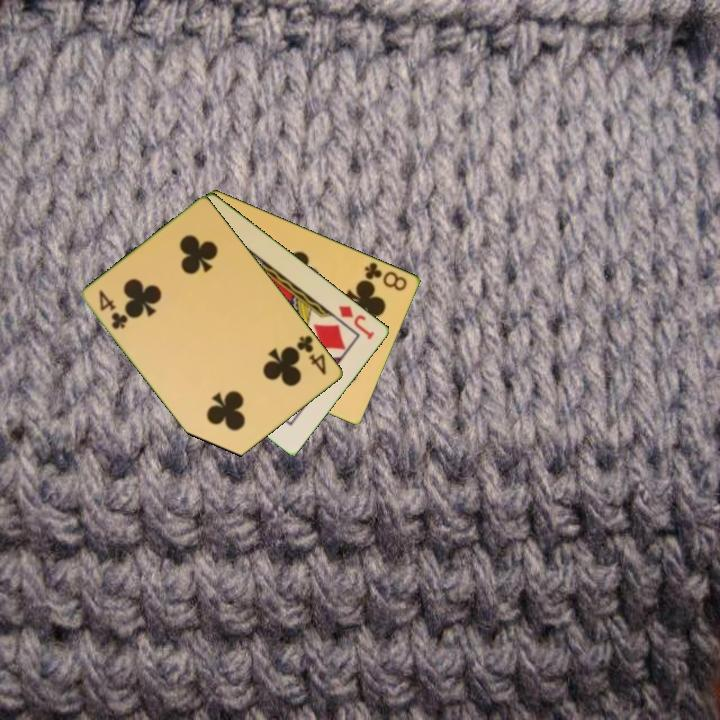4c: (293, 332, 329, 378), (96, 286, 131, 332)
8c: (361, 258, 410, 294)
Jd: (335, 302, 378, 342)
